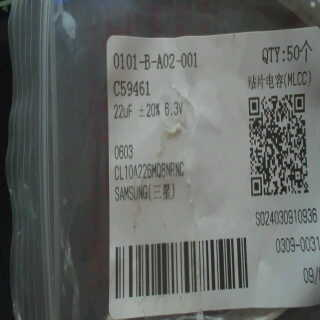22uF: (112, 101, 138, 120)
